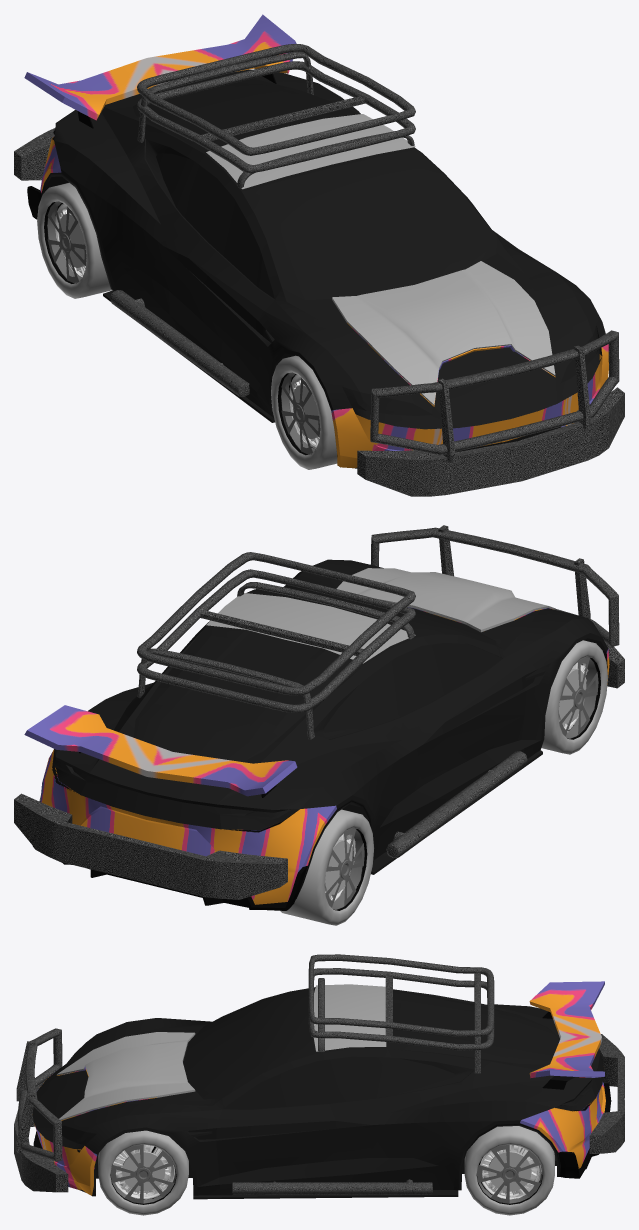
The model's file is tesla_1.fbx.
3 renders of one model, top to bottom at view 1: azimuth 30°, elevation 25°; view 2: azimuth 150°, elevation 25°; view 3: azimuth 270°, elevation 25°, orthographic. The views are drawn at different scales.
Visible parts, largest first — view 1: Main_shpe.014, carbon_tesla, pasted__pasted__pasted__polySurface21, pasted__pasted__pasted__polySurface31, polySurface1, Main_shpe.004, Main_shpe.001, Bumperfront, Bumperback; view 2: Main_shpe.014, pasted__pasted__pasted__polySurface31, pasted__pasted__pasted__polySurface21, carbon_tesla, Bumperback, polySurface1, Main_shpe.004, Main_shpe.001; view 3: Main_shpe.014, carbon_tesla, pasted__pasted__pasted__polySurface31, pasted__pasted__pasted__polySurface21, Main_shpe.003, Main_shpe.002, polySurface1, Bumperback, Bumperfront, pasted__WheelMagicLB, pasted__WheelMagicLF.
Part boxes in pixels (bbox=[...]): Main_shpe.014: bbox=[41, 69, 605, 468]; carbon_tesla: bbox=[206, 114, 555, 405]; pasted__pasted__pasted__polySurface21: bbox=[14, 128, 624, 496]; pasted__pasted__pasted__polySurface31: bbox=[110, 44, 415, 396]; polySurface1: bbox=[24, 14, 296, 120]; Main_shpe.004: bbox=[37, 182, 112, 298]; Main_shpe.001: bbox=[271, 355, 337, 469]; Bumperfront: bbox=[331, 344, 608, 468]; Bumperback: bbox=[27, 136, 61, 219]; Main_shpe.014: bbox=[53, 559, 608, 898]; pasted__pasted__pasted__polySurface31: bbox=[137, 552, 527, 857]; pasted__pasted__pasted__polySurface21: bbox=[14, 525, 624, 899]; carbon_tesla: bbox=[206, 568, 555, 663]; Bumperback: bbox=[33, 749, 336, 910]; polySurface1: bbox=[24, 705, 297, 796]; Main_shpe.004: bbox=[280, 809, 374, 925]; Main_shpe.001: bbox=[541, 640, 607, 754]; Main_shpe.014: bbox=[32, 987, 604, 1199]; carbon_tesla: bbox=[57, 984, 386, 1120]; pasted__pasted__pasted__polySurface31: bbox=[232, 954, 494, 1194]; pasted__pasted__pasted__polySurface21: bbox=[14, 1028, 624, 1192]; Main_shpe.003: bbox=[464, 1126, 554, 1215]; Main_shpe.002: bbox=[98, 1130, 188, 1215]; polySurface1: bbox=[529, 981, 604, 1078]; Bumperback: bbox=[520, 1082, 611, 1178]; Bumperfront: bbox=[33, 1072, 97, 1195]; pasted__WheelMagicLB: bbox=[479, 1145, 537, 1199]; pasted__WheelMagicLF: bbox=[113, 1145, 173, 1199].
Size of the model in its own units: 216 by 159 by 502.
